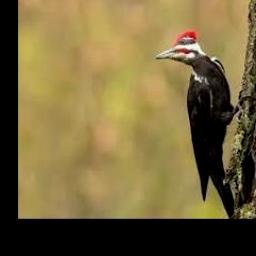Woodpecker: (156, 31, 254, 218)
